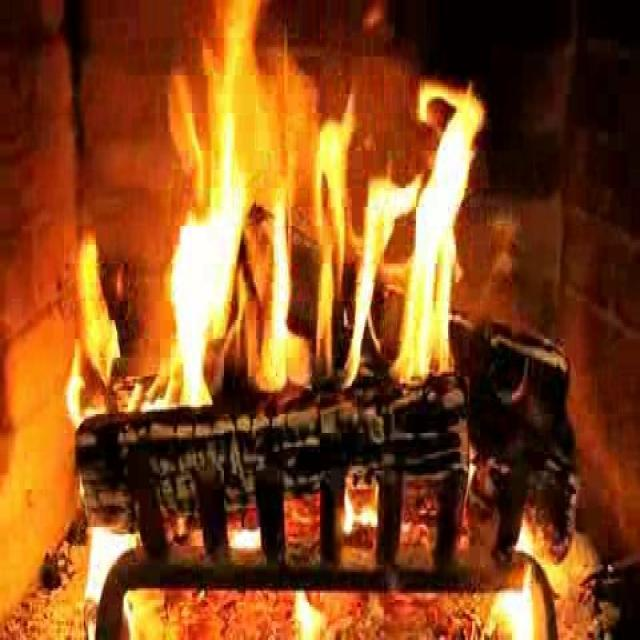Fire: (72, 83, 464, 431)
